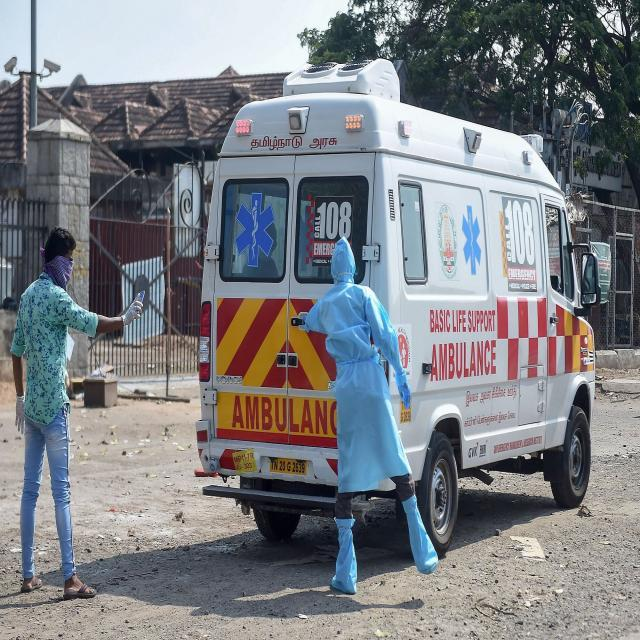ambulance: (193, 63, 598, 551)
